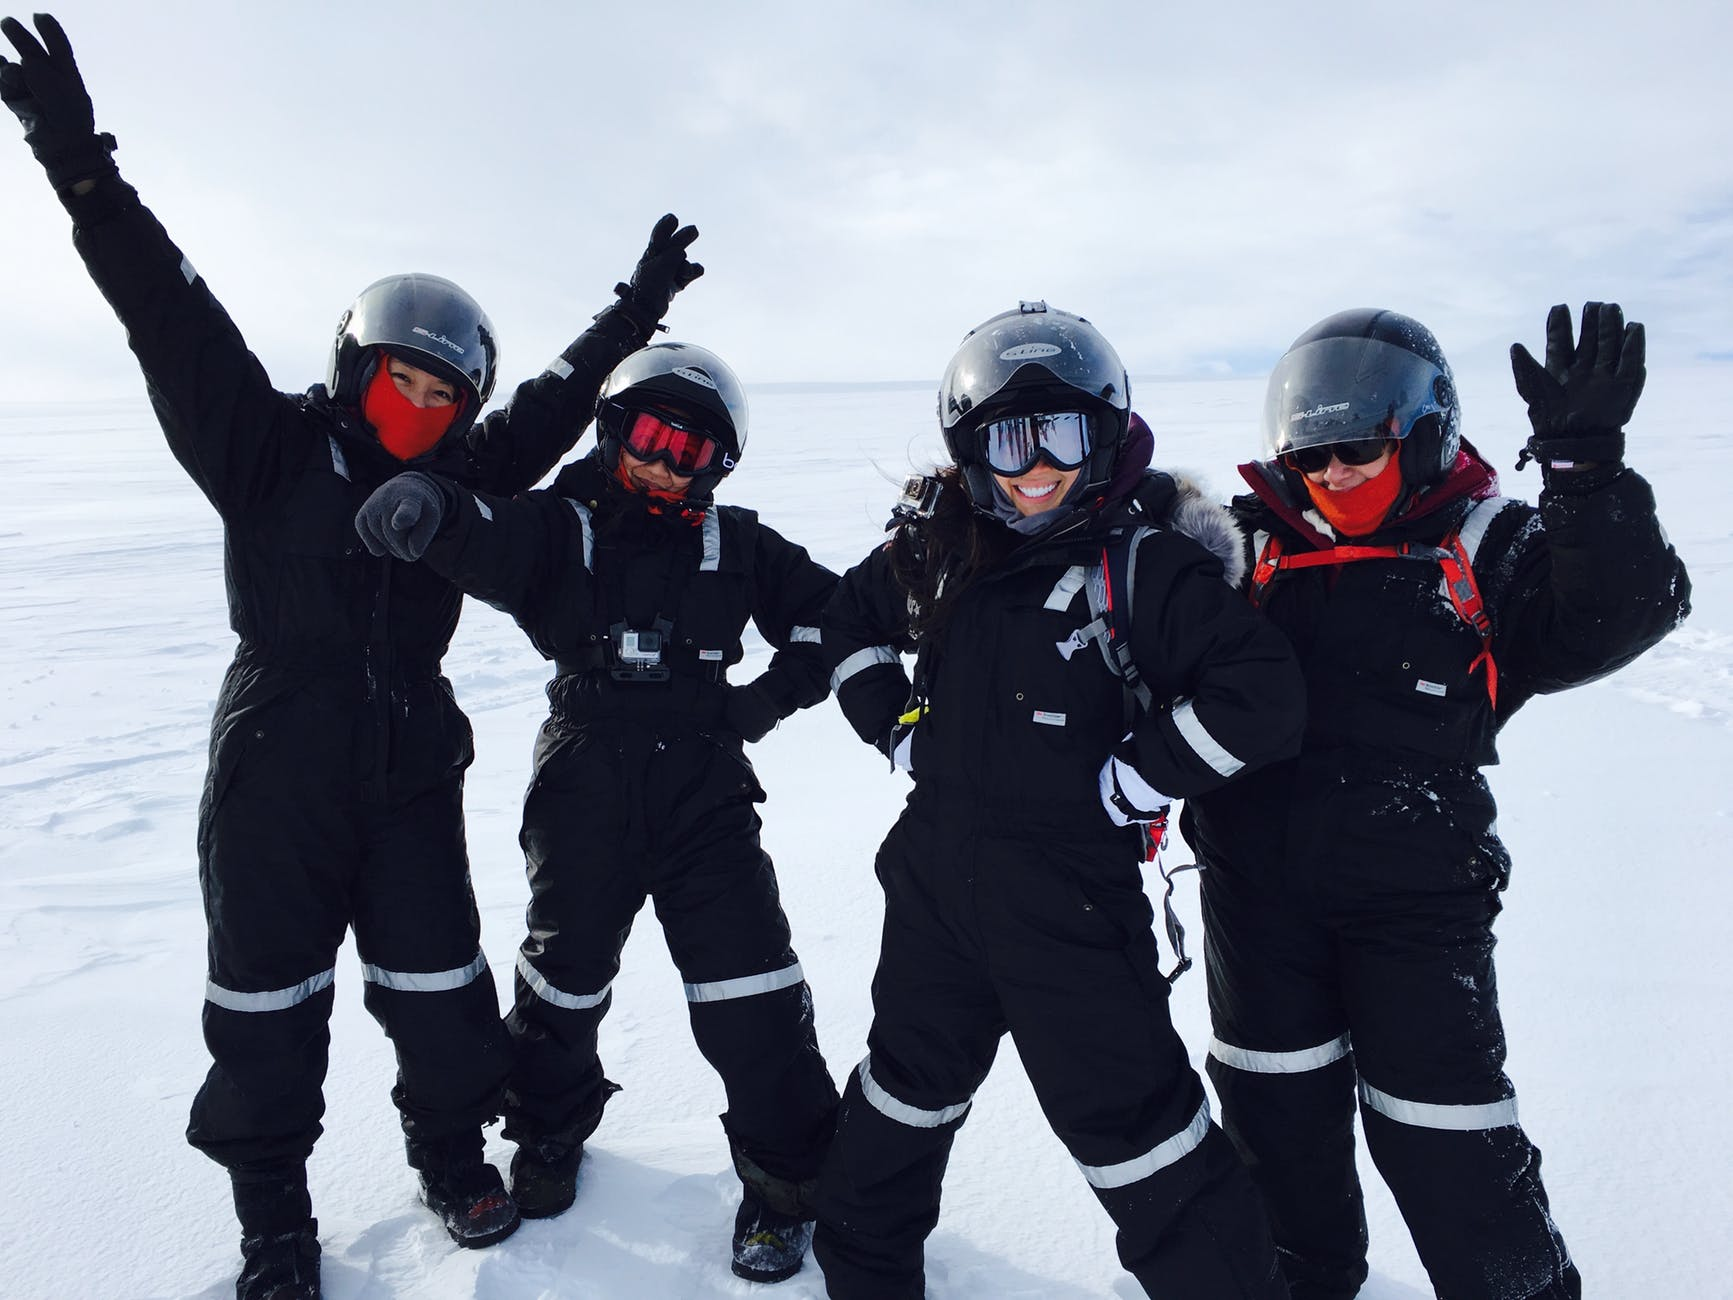helmet: (1260, 305, 1483, 505), (935, 315, 1149, 497), (591, 330, 759, 468), (321, 269, 477, 411)
